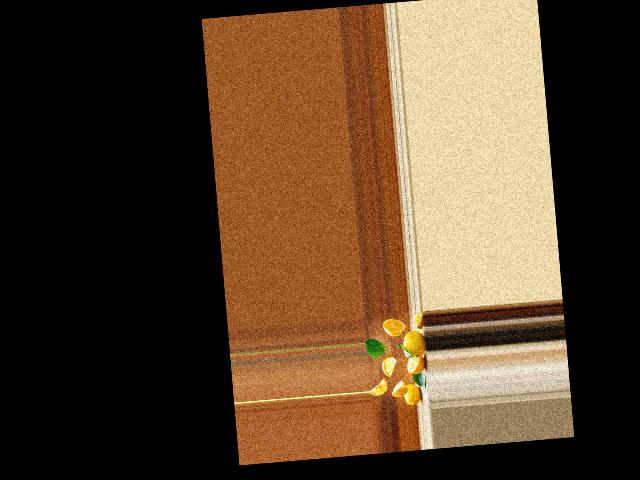lemon: (401, 382, 422, 408)
